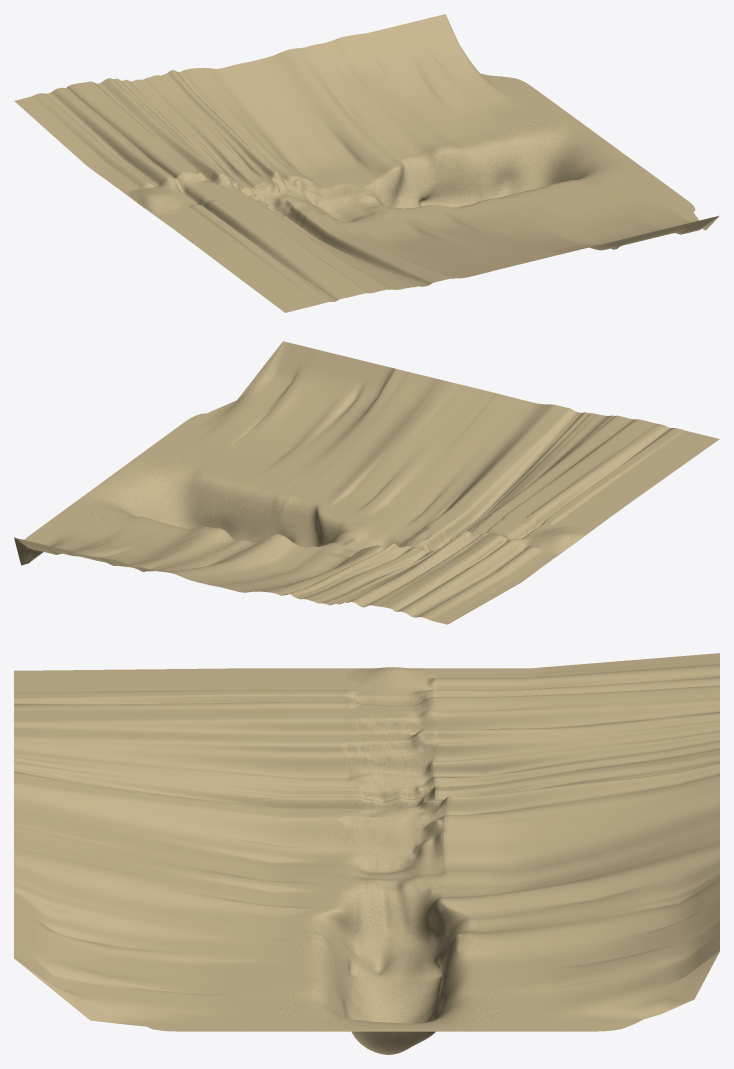
The model's file is Terrain_Background.fbx.
3 views of the same model, one above another, from view 1: azimuth 30°, elevation 25°; view 2: azimuth 150°, elevation 25°; view 3: azimuth 270°, elevation 25° (orthographic). The views are drawn at different scales.
Visible parts, largest first — view 1: Terrain; view 2: Terrain; view 3: Terrain.
Boxes of the visible parts, x1=… form: Terrain: x1=14, y1=14, x2=719, y2=312; Terrain: x1=14, y1=341, x2=719, y2=624; Terrain: x1=14, y1=653, x2=719, y2=1054.
Size of the model in its own units: 562 by 143 by 565.
